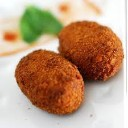cutlet: (16, 49, 84, 115), (61, 21, 124, 79)
